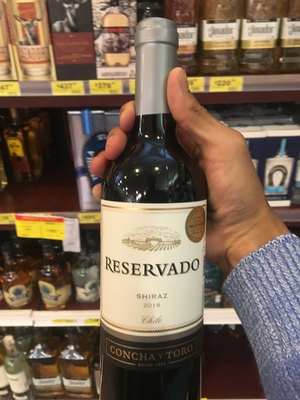reservado shiraz: (92, 24, 208, 400)
